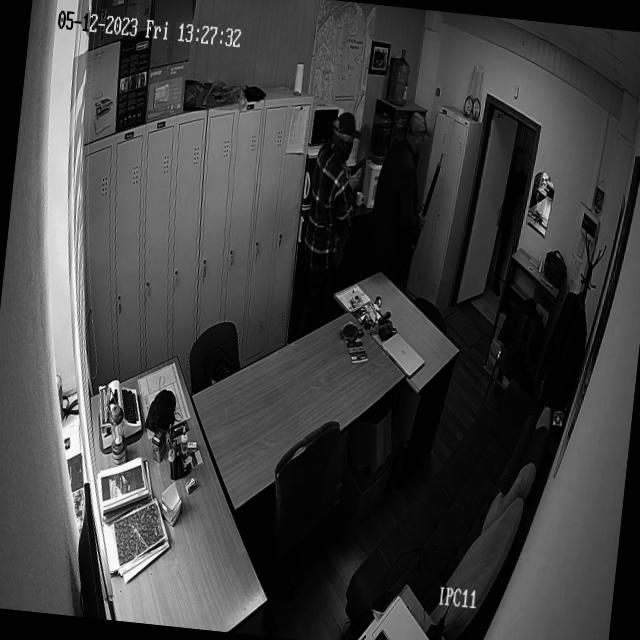gun: (348, 153, 367, 184)
person: (365, 103, 431, 273)
person with a gun: (300, 105, 373, 282)
